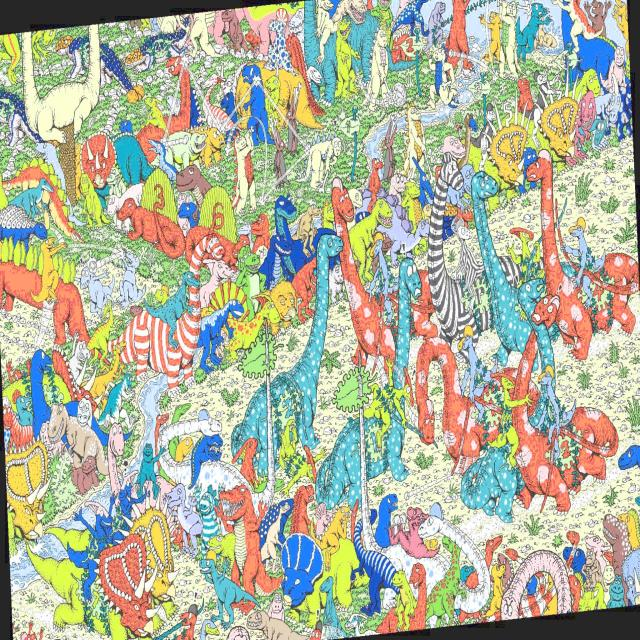waldo: (455, 125, 463, 138)
